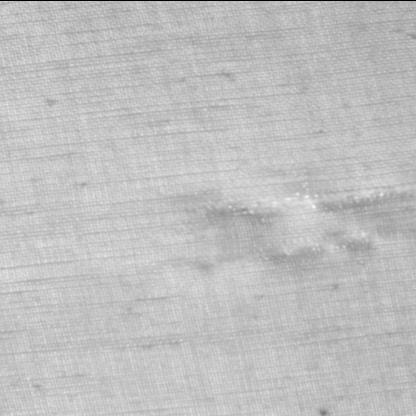thread error: (179, 180, 415, 220), (178, 228, 377, 268)
